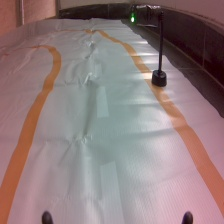green: (128, 2, 170, 89)
